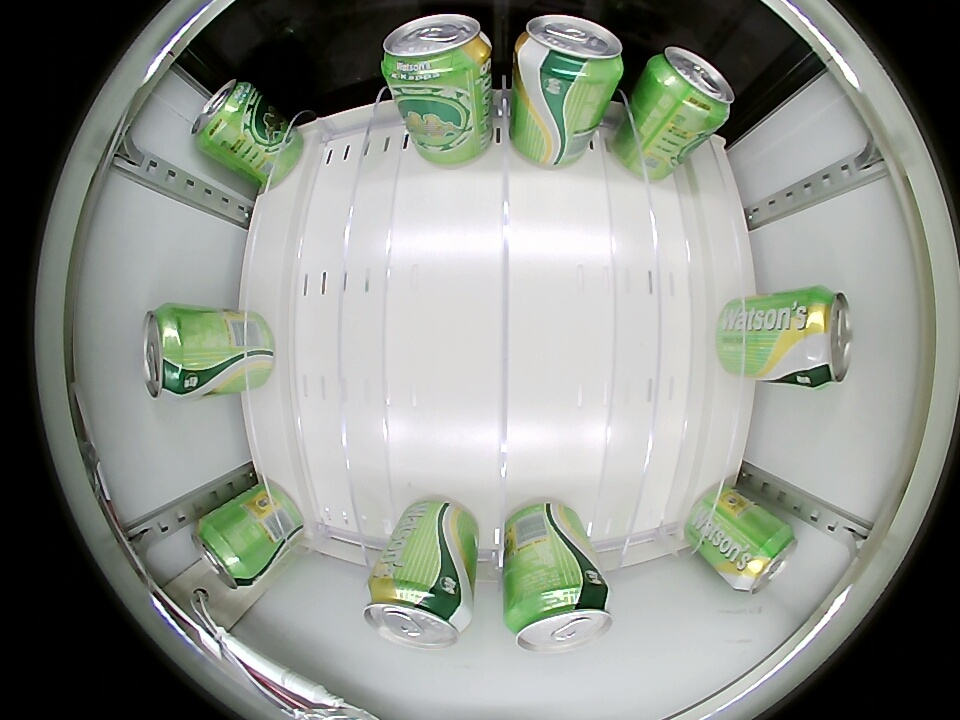quchenshixiangcao: (363, 574, 471, 649), (515, 15, 624, 88), (381, 14, 491, 86), (506, 580, 614, 653), (644, 46, 735, 127), (798, 285, 853, 388), (143, 304, 198, 400), (731, 519, 796, 594), (194, 513, 256, 591), (190, 80, 254, 155)
